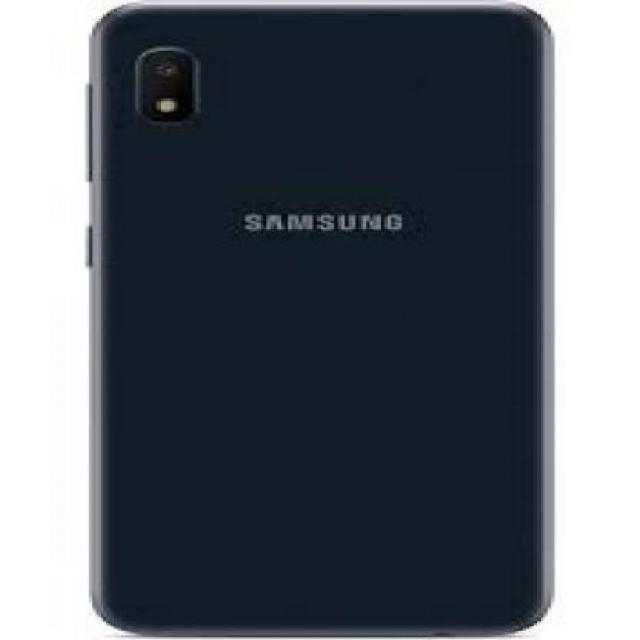phone: (89, 2, 555, 636)
